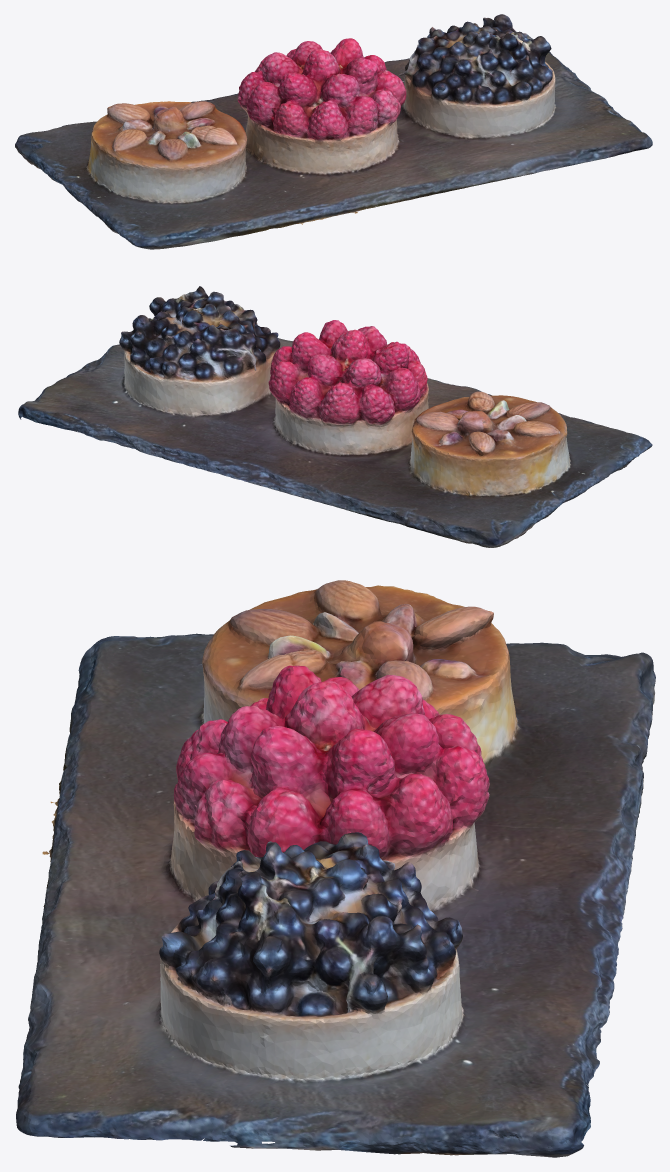
Rendered from se ta keik gerd toot farangi.behine.glb.
3 views of the same model, one above another, from view 1: azimuth 30°, elevation 25°; view 2: azimuth 150°, elevation 25°; view 3: azimuth 270°, elevation 25° (orthographic). The views are drawn at different scales.
Parts seen in each view (by area): view 1: object 1; view 2: object 1; view 3: object 1.
Boxes of the visible parts, <box> form: object 1: <box>15,14,652,249</box>; object 1: <box>18,286,652,547</box>; object 1: <box>16,580,655,1157</box>.
Size of the model in its own units: 0.3722 by 0.0755 by 0.2033.
2 materials, 1 textured.
